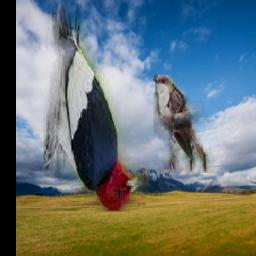Cuckoo: (153, 75, 216, 173)
Woodpecker: (43, 1, 149, 213)
